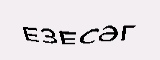Д: (49, 20, 67, 49)
З: (37, 19, 49, 44)
П: (78, 13, 100, 44)
С: (101, 11, 125, 47), (67, 18, 80, 44)
